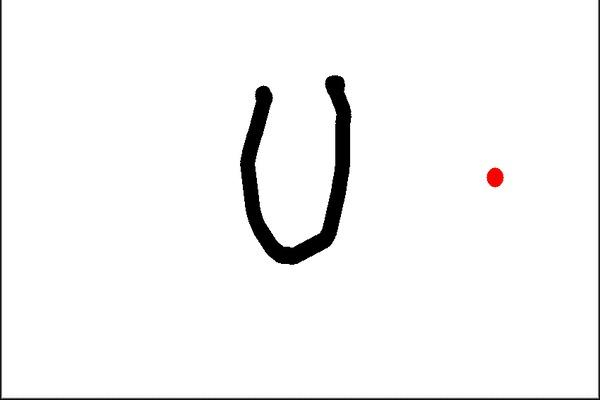U: (227, 61, 363, 263)
